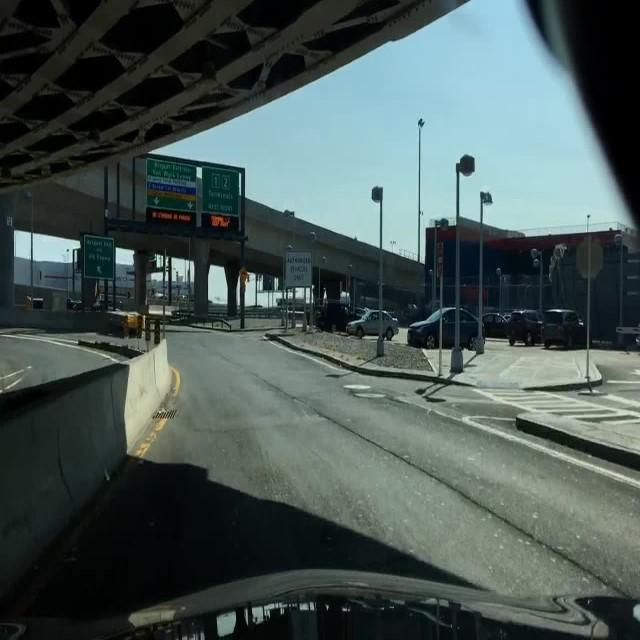normal: (405, 309, 482, 350), (344, 312, 398, 340), (482, 313, 514, 340)
